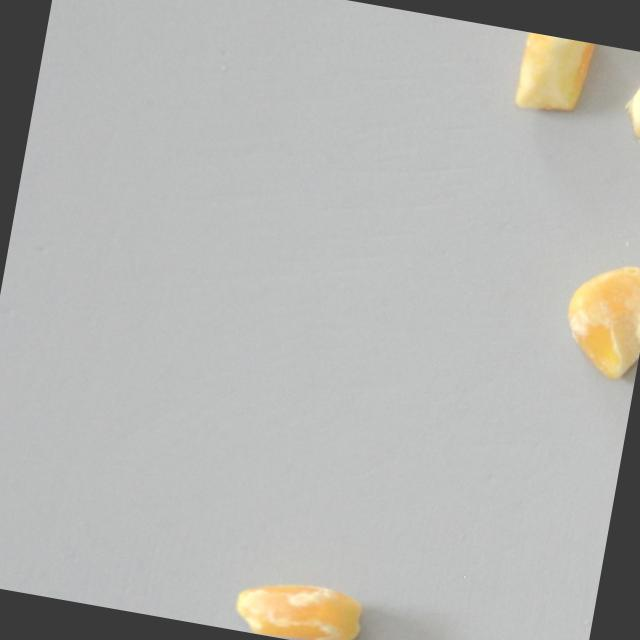estandar: (510, 31, 598, 123)
pelicula: (232, 567, 369, 640), (561, 255, 640, 374), (619, 51, 640, 152)
